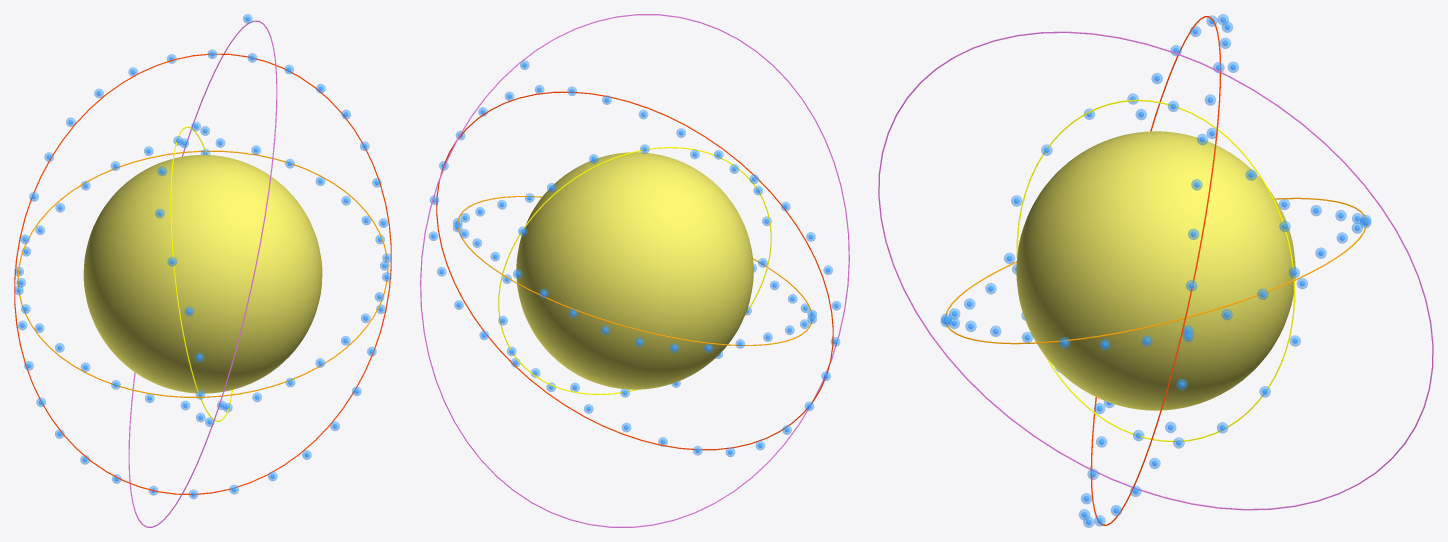
3 renders of one model, left to right at view 1: azimuth 30°, elevation 25°; view 2: azimuth 150°, elevation 25°; view 3: azimuth 270°, elevation 25°, orthographic. The views are drawn at different scales.
Visible parts, largest first — view 1: Np, object 126, object 61, object 191, object 24; view 2: Np, object 191, object 126, object 24, object 61; view 3: Np, object 191, object 24, object 126, object 61.
Boxes of the visible parts, x1=… form: Np: x1=83, y1=155, x2=322, y2=393; object 126: x1=14, y1=53, x2=391, y2=494; object 61: x1=17, y1=150, x2=388, y2=397; object 191: x1=128, y1=20, x2=277, y2=527; object 24: x1=170, y1=126, x2=232, y2=421; Np: x1=516, y1=152, x2=753, y2=389; object 191: x1=420, y1=14, x2=849, y2=527; object 126: x1=436, y1=91, x2=833, y2=450; object 24: x1=498, y1=147, x2=771, y2=394; object 61: x1=457, y1=196, x2=812, y2=345; Np: x1=1016, y1=131, x2=1295, y2=410; object 191: x1=878, y1=31, x2=1433, y2=510; object 24: x1=1016, y1=99, x2=1295, y2=442; object 126: x1=1090, y1=16, x2=1221, y2=525; object 61: x1=945, y1=197, x2=1366, y2=344.
Bounding box in the file's own units: 7.33 × 8.1 × 7.7.
